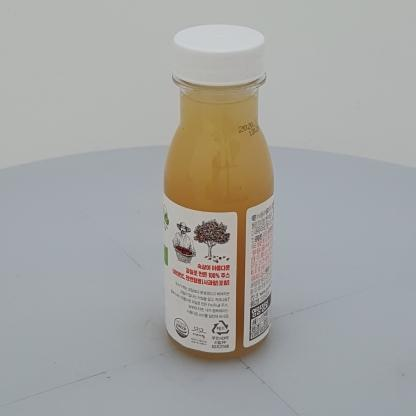--------------215ML: (163, 24, 274, 359)
